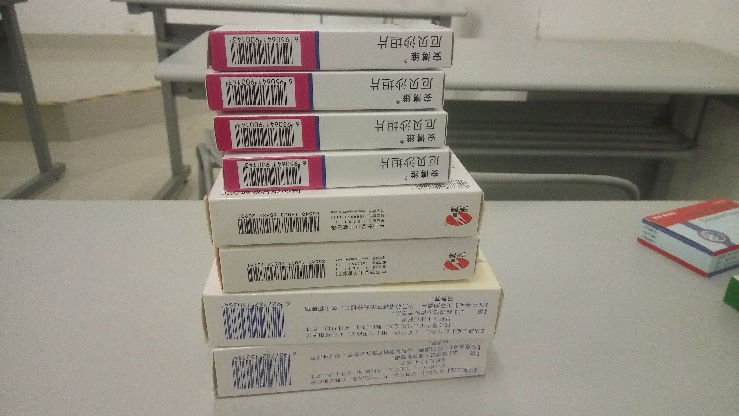pillbox: (195, 290, 505, 340), (208, 342, 492, 395), (216, 240, 481, 293), (205, 190, 485, 240), (208, 29, 457, 71), (213, 113, 450, 154), (220, 153, 456, 193), (206, 75, 448, 114)
